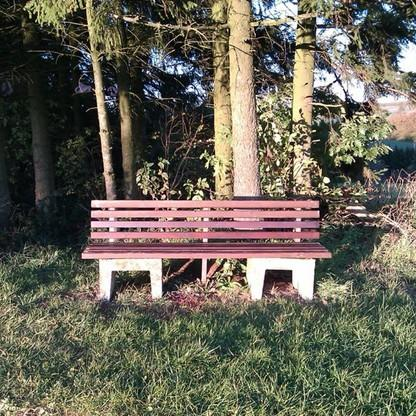obstacle: (77, 188, 336, 309)
